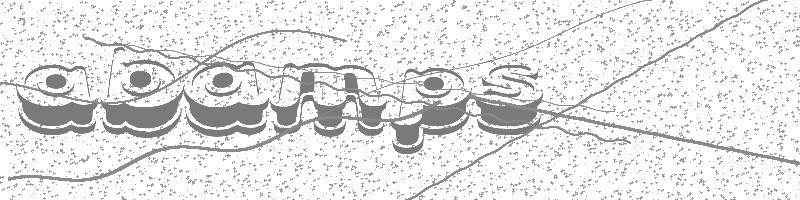a: (184, 59, 269, 138), (16, 64, 99, 136)
b: (100, 45, 183, 140)
m: (269, 62, 388, 137)
p: (390, 67, 469, 155)
s: (474, 65, 544, 136)
